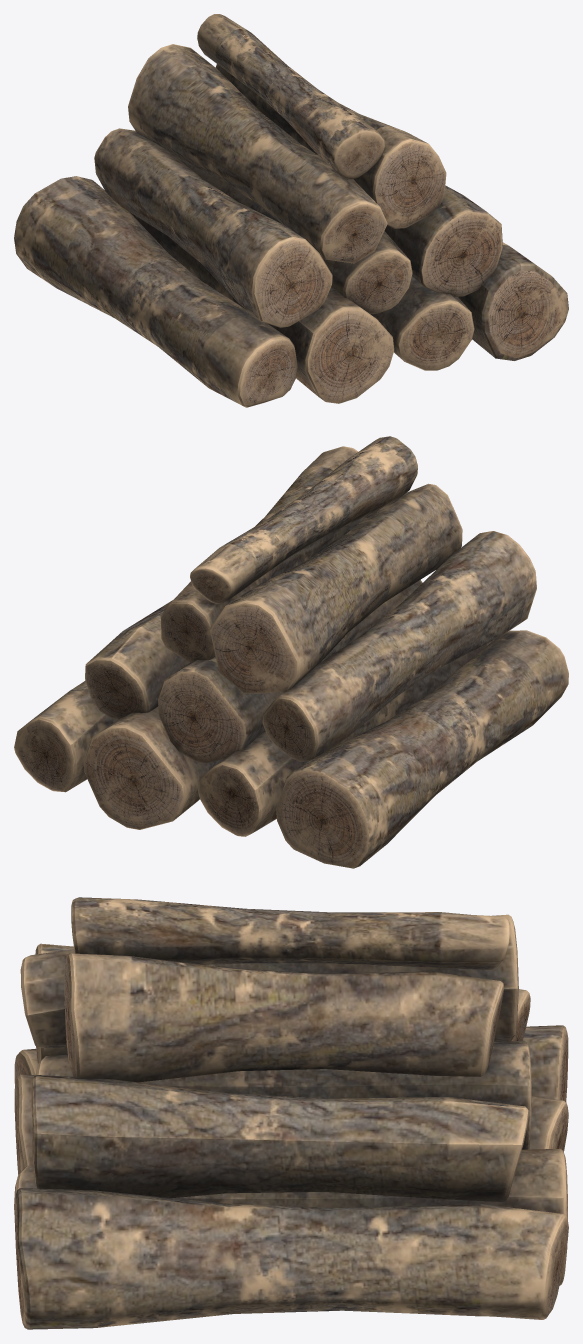
File: wood.fbx
3 renders of one model, top to bottom at view 1: azimuth 30°, elevation 25°; view 2: azimuth 150°, elevation 25°; view 3: azimuth 270°, elevation 25°, orthographic. The views are drawn at different scales.
Visible parts, largest first — view 1: defaultMaterial; view 2: defaultMaterial; view 3: defaultMaterial.
Boxes of the visible parts, box(x1,y1,x2,y2) form: defaultMaterial: box(14, 14, 568, 407); defaultMaterial: box(14, 436, 568, 868); defaultMaterial: box(14, 897, 568, 1329).
Bounding box in the file's own units: 668 × 462 × 685.
